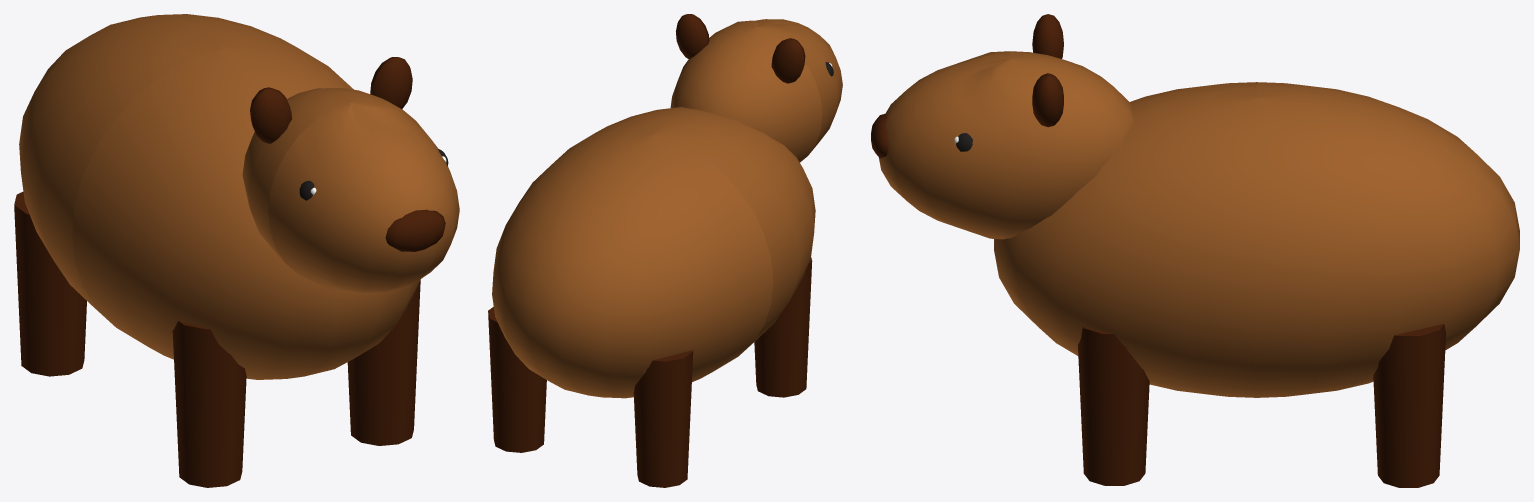
File: capybara.glb
3 renders of one model, left to right at view 1: azimuth 30°, elevation 25°; view 2: azimuth 150°, elevation 25°; view 3: azimuth 270°, elevation 25°, orthographic. The views are drawn at different scales.
Visible parts, largest first — view 1: Body, Head, LegFL, LegBL, LegFR, Nose, Ear_-1, Ear_1; view 2: Body, Head, LegBL, LegBR, LegFL, Ear_-1, Ear_1; view 3: Body, Head, LegBR, LegFR, Ear_1, Ear_-1.
Part boxes in pixels (x1,y1,x2,y2): Body: (19,14,420,379); Head: (242,88,459,292); LegFL: (172,321,246,487); LegBL: (14,192,86,376); LegFR: (347,280,420,445); Nose: (385,209,445,251); Ear_-1: (250,87,291,143); Ear_1: (370,57,412,108); Body: (492,107,815,398); Head: (670,19,842,162); LegBL: (633,350,693,487); LegBR: (488,307,546,452); LegFL: (754,257,812,397); Ear_-1: (771,38,805,83); Ear_1: (676,14,709,59); Body: (994,82,1519,397); Head: (878,51,1133,239); LegBR: (1373,324,1445,487); LegFR: (1078,327,1149,485); Ear_1: (1032,73,1063,127); Ear_-1: (1032,14,1063,58).
Bounding box in the file's own units: 0.7 × 0.903 × 1.37.
